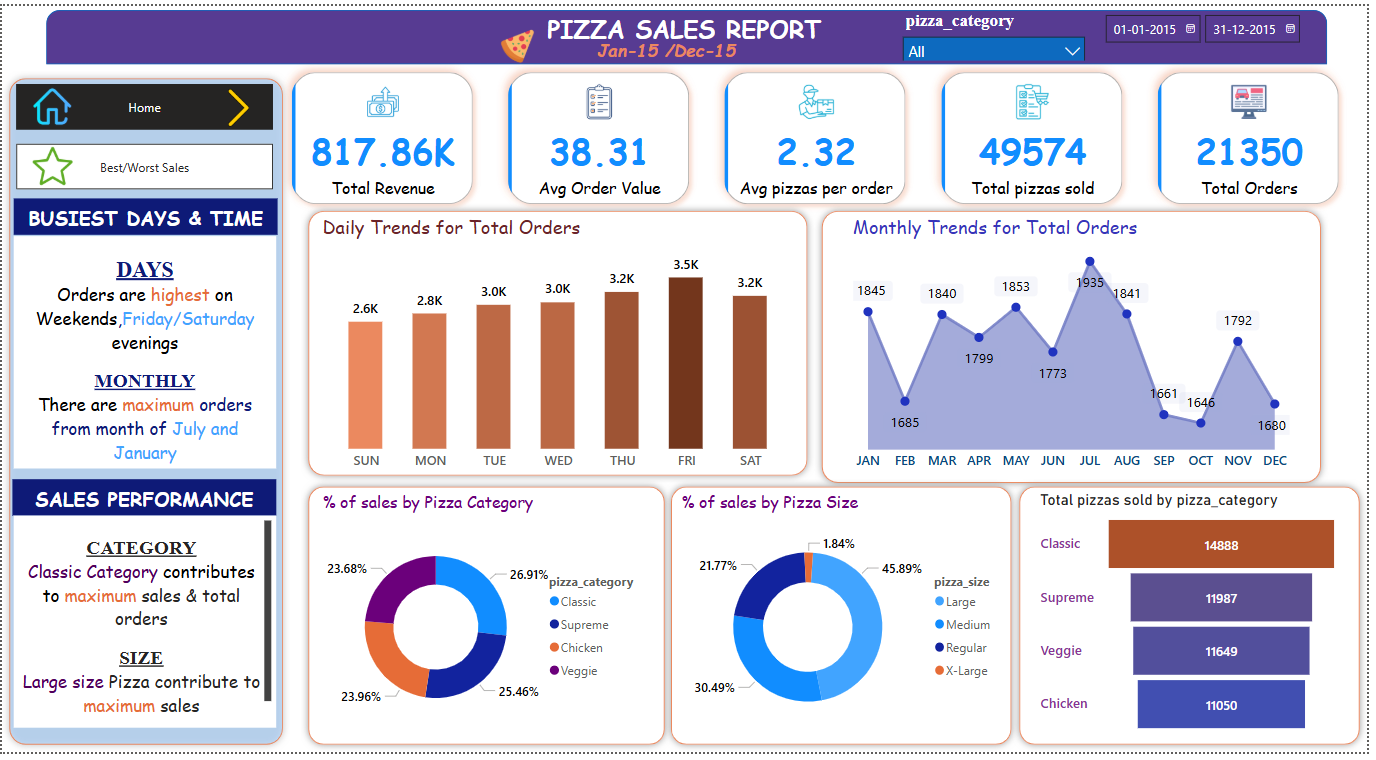

What the dashboard file says about the page in this screenshot:
{"tool":"powerbi","page":{"name":"Home","canvas":[1500,820],"ordinal":0},"visuals":[{"type":"cardVisual","fields":{"Data":["pizza_sales.Total Revenue","pizza_sales.Avg Order Value","pizza_sales.Avg pizzas per order","pizza_sales.Total pizzas sold","pizza_sales.Total Orders"]},"box":[296.8,51.6,1193.5,200],"z":0},{"type":"shape","box":[48.4,4.8,1408.1,60],"z":1000},{"type":"textbox","box":[577.4,0,345.2,51.6],"z":2000},{"type":"textbox","box":[648.4,30.6,175.8,41.9],"z":3000},{"type":"image","box":[521,19.4,90.3,48.4],"z":4000},{"type":"shape","box":[329,217.7,564.5,307],"z":5000},{"type":"columnChart","title":"Daily Trends for Total Orders","fields":{"Category":["pizza_sales.Order Day"],"Y":["pizza_sales.Total Orders"]},"box":[346.8,229,529,291.9],"z":6000},{"type":"shape","box":[893.5,217.7,564.5,315],"z":7000},{"type":"areaChart","title":"Monthly Trends for Total Orders","fields":{"Category":["pizza_sales.Order Month"],"Y":["pizza_sales.Total Orders"]},"box":[930.6,229,490.3,291.9],"z":8000},{"type":"shape","box":[329,519.4,408.1,300],"z":9000},{"type":"shape","box":[727.4,519.4,390.3,300],"z":10000},{"type":"shape","box":[1109.7,519.4,390.3,300],"z":11000},{"type":"donutChart","title":"% of sales by Pizza Category","fields":{"Category":["pizza_sales.pizza_category"],"Y":["pizza_sales.Total Revenue"]},"box":[346.8,532.3,367.7,274.2],"z":12000},{"type":"donutChart","title":"% of sales by Pizza Size","fields":{"Category":["pizza_sales.pizza_size"],"Y":["pizza_sales.Total Revenue"]},"box":[741.9,532.3,367.7,274.2],"z":13000},{"type":"funnel","fields":{"Category":["pizza_sales.pizza_category"],"Y":["pizza_sales.Total pizzas sold"]},"box":[1135,533.3,338.3,273.3],"z":14000},{"type":"shape","box":[0,71.7,316.7,748.3],"z":15000},{"type":"textbox","box":[13.3,211.7,290,40],"z":16000},{"type":"textbox","box":[13.3,253.3,288.3,255],"z":17000},{"type":"textbox","box":[11.7,520,290,40],"z":18000},{"type":"textbox","box":[13.3,560,288.3,233.3],"z":19000},{"type":"slicer","fields":{"Values":["pizza_sales.pizza_category"]},"box":[980,0,220,60],"z":20000},{"type":"slicer","fields":{"Values":["pizza_sales.order_date"]},"box":[1200,0,273.3,71.7],"z":21000},{"type":"pageNavigator","box":[16,86,282,50],"z":21001},{"type":"pageNavigator","box":[16,152,282,50],"z":21002},{"type":"image","box":[110,86,300,52],"z":21003},{"type":"image","box":[12,84,88,52],"z":21004},{"type":"image","box":[12,148,88,54],"z":21005}]}

Visuals, with their boxes in screenshot pixels (x1, y1, x2, y2), scaled from the page's 1500x820 canvas onto the 1376x760 screenshot:
cardVisual - pizza_sales.Total Revenue x pizza_sales.Avg Order Value: bbox=(272, 48, 1367, 233)
shape: bbox=(44, 4, 1336, 60)
textbox: bbox=(530, 0, 846, 48)
textbox: bbox=(595, 28, 756, 67)
image: bbox=(478, 18, 561, 63)
shape: bbox=(302, 202, 820, 486)
"Daily Trends for Total Orders" columnChart: bbox=(318, 212, 803, 483)
shape: bbox=(820, 202, 1337, 494)
"Monthly Trends for Total Orders" areaChart: bbox=(854, 212, 1303, 483)
shape: bbox=(302, 481, 676, 759)
shape: bbox=(667, 481, 1025, 759)
shape: bbox=(1018, 481, 1375, 759)
"% of sales by Pizza Category" donutChart: bbox=(318, 493, 655, 747)
"% of sales by Pizza Size" donutChart: bbox=(681, 493, 1018, 747)
funnel - pizza_sales.pizza_category x pizza_sales.Total pizzas sold: bbox=(1041, 494, 1352, 748)
shape: bbox=(0, 66, 291, 759)
textbox: bbox=(12, 196, 278, 233)
textbox: bbox=(12, 235, 277, 471)
textbox: bbox=(11, 482, 277, 519)
textbox: bbox=(12, 519, 277, 735)
slicer - pizza_sales.pizza_category: bbox=(899, 0, 1101, 56)
slicer - pizza_sales.order_date: bbox=(1101, 0, 1352, 66)
pageNavigator: bbox=(15, 80, 273, 126)
pageNavigator: bbox=(15, 141, 273, 187)
image: bbox=(101, 80, 376, 128)
image: bbox=(11, 78, 92, 126)
image: bbox=(11, 137, 92, 187)
